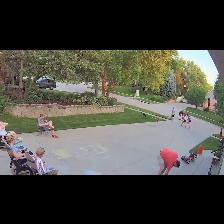person: (158, 148, 180, 174), (33, 148, 54, 172), (38, 114, 58, 138), (7, 136, 25, 158), (0, 121, 22, 139), (181, 114, 188, 127), (172, 108, 175, 120), (179, 111, 183, 120), (49, 170, 58, 174)
